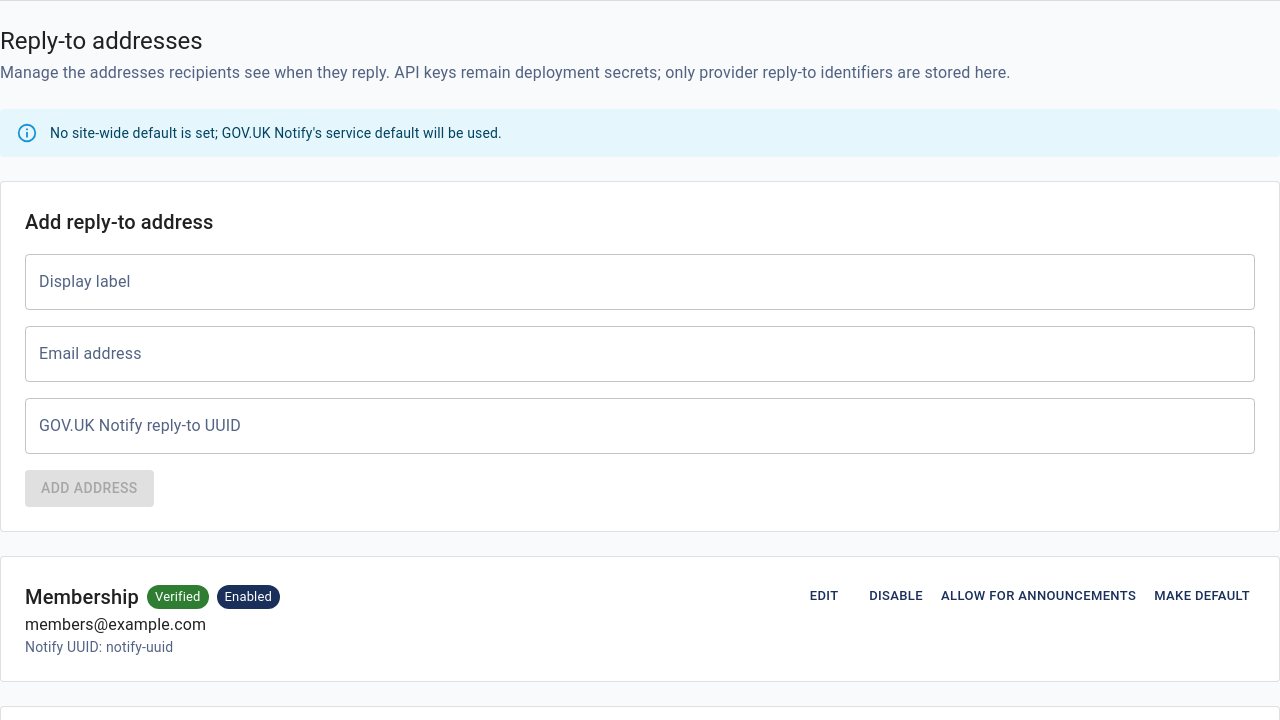
Test case: NotifyReplyToSettings › renders availability, default, and announcement changes returned by the server
Click the button "Allow for announcements".
click(1039, 596)  # box 936,580 -> 1141,611
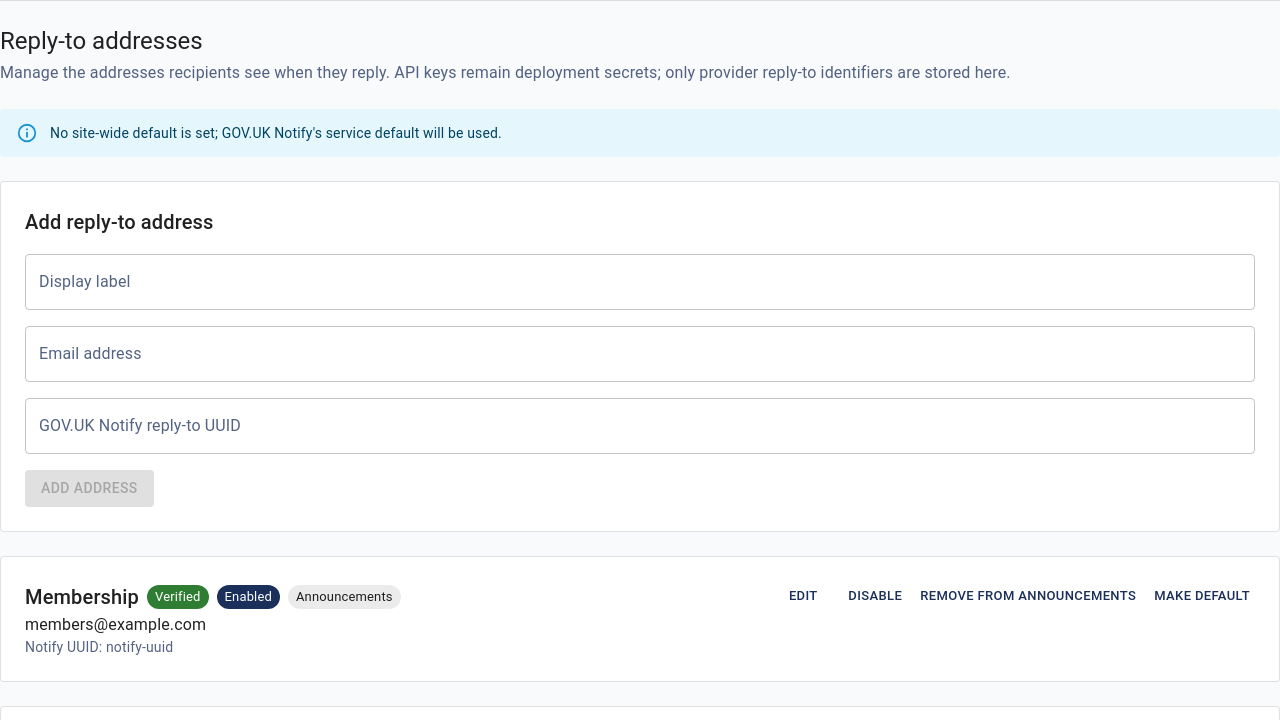
expect the text "Announcements" is shown: met, box 288,587 -> 401,606
Click the button "Make default".
click(1202, 596)  # box 1149,580 -> 1255,611
(page scrolled)
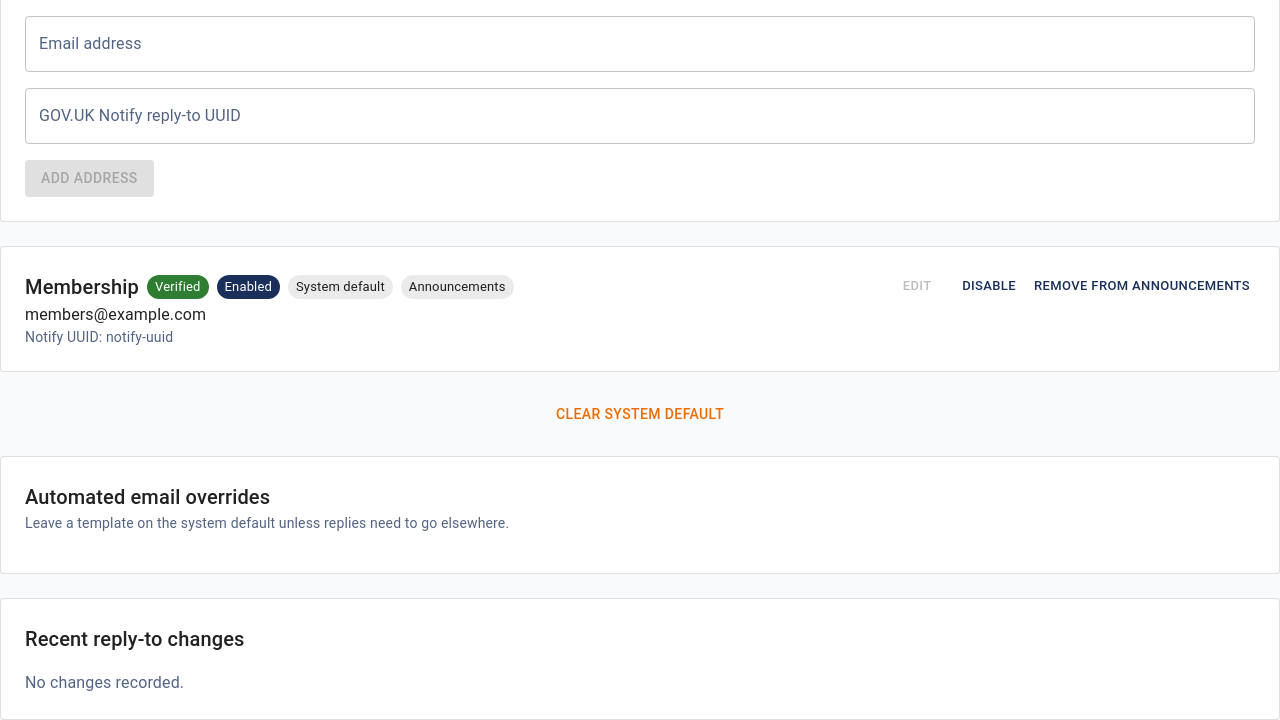
expect the text "System default" is shown: met, box 296,279 -> 385,294
Click the button "Clear system default".
click(640, 414)  # box 0,396 -> 1279,432
(page scrolled)
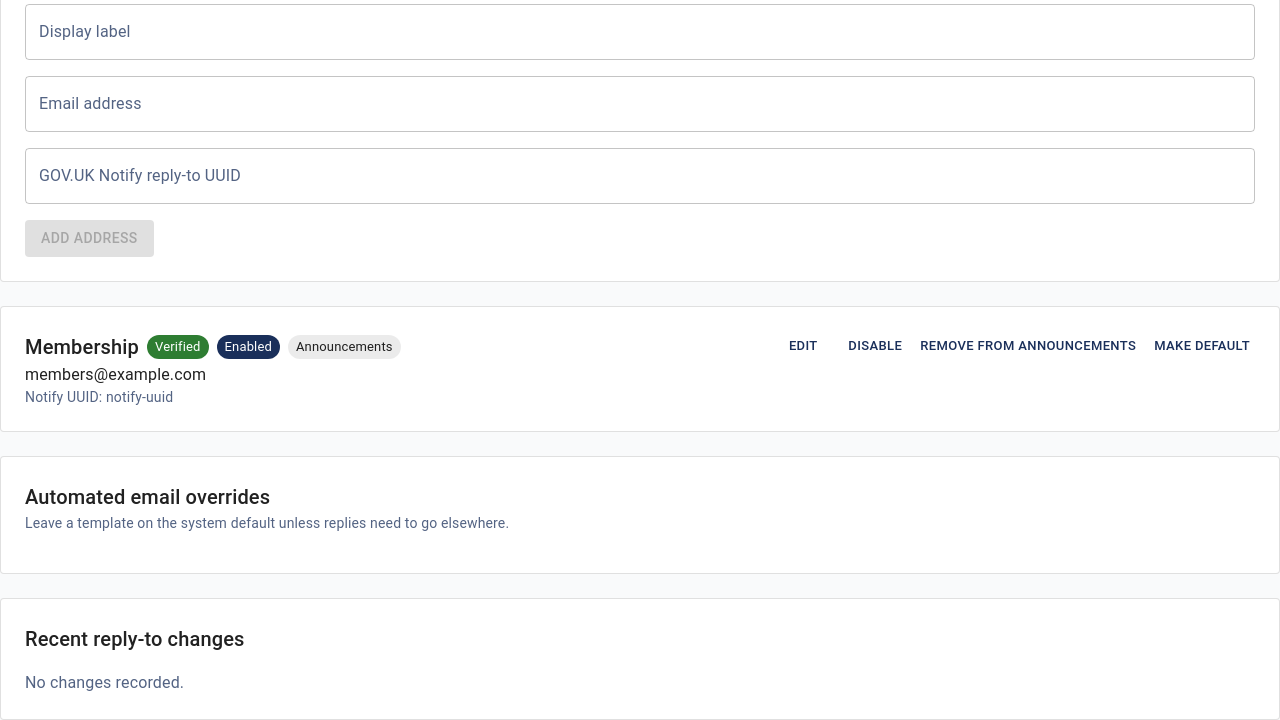
Click the button "Disable".
click(875, 346)  # box 843,330 -> 907,361
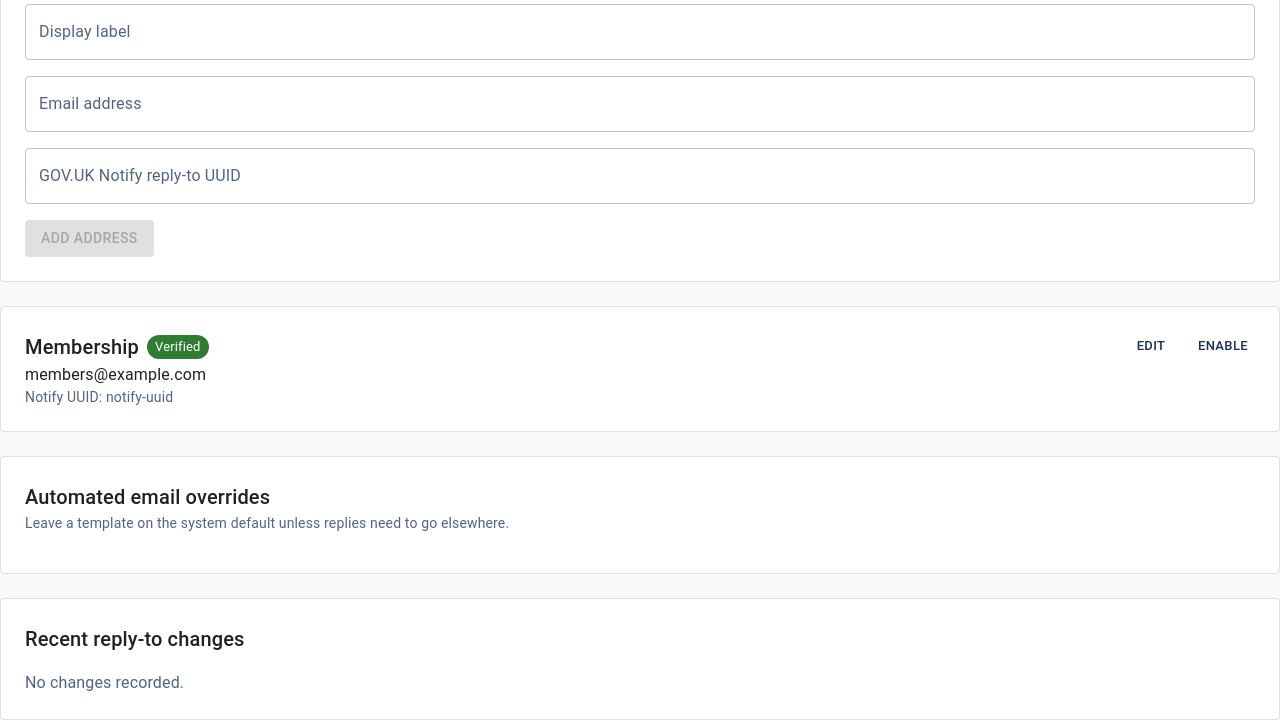
expect the button "Enable" is shown: met, box 1191,330 -> 1255,361
expect the text "Enabled" is gone: met
